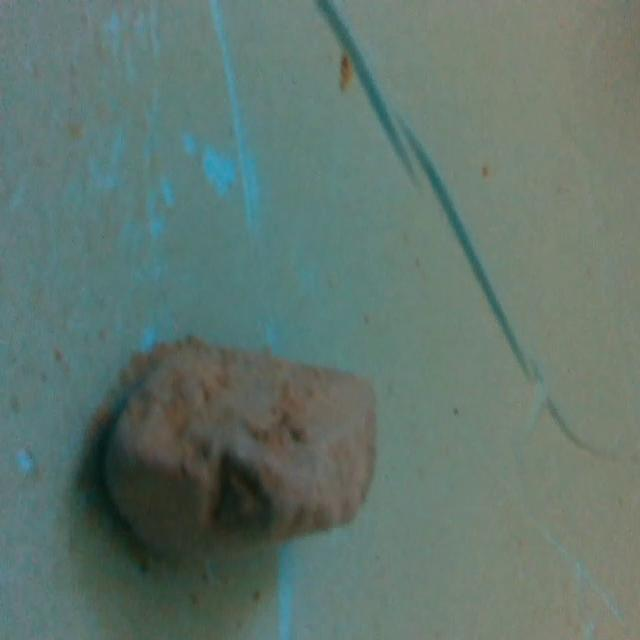rock: (90, 337, 380, 571)
